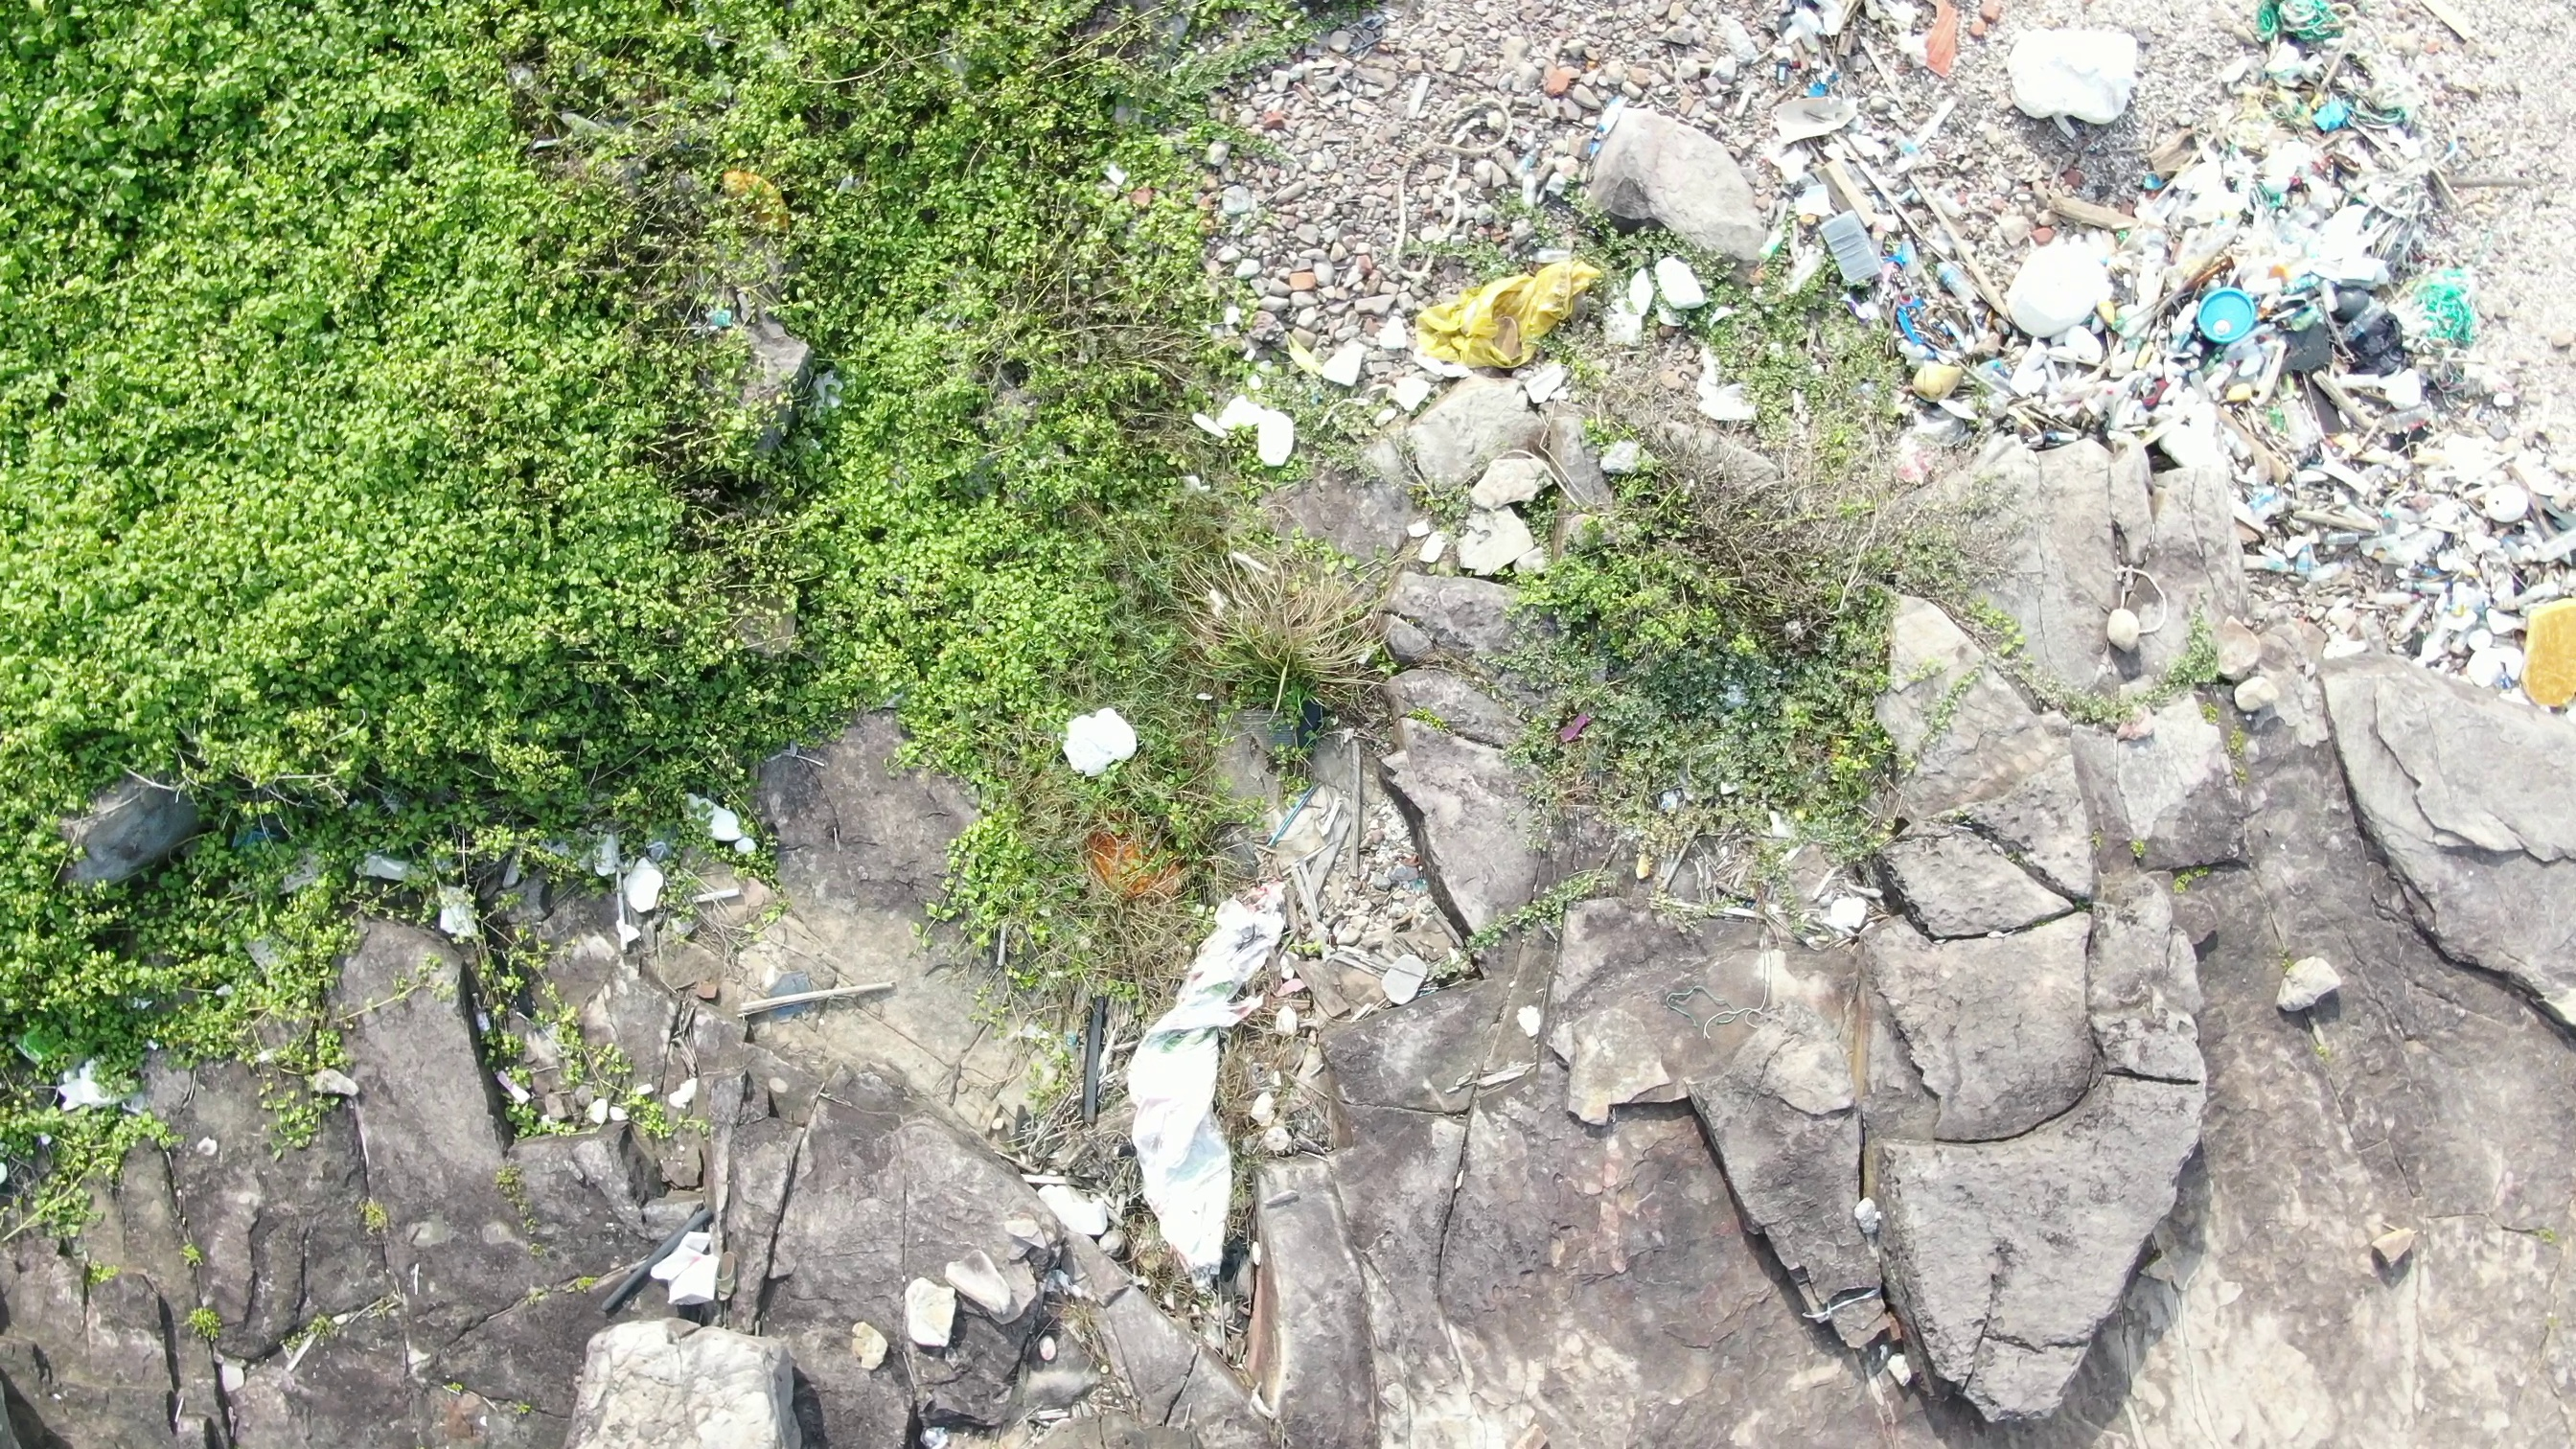garbage: (2005, 198, 2516, 448), (1109, 855, 1307, 1309), (2247, 9, 2442, 212), (1812, 200, 1997, 359), (1401, 237, 1608, 372), (1989, 25, 2155, 134), (662, 775, 773, 872), (2509, 582, 2576, 724), (1046, 701, 1141, 786)
